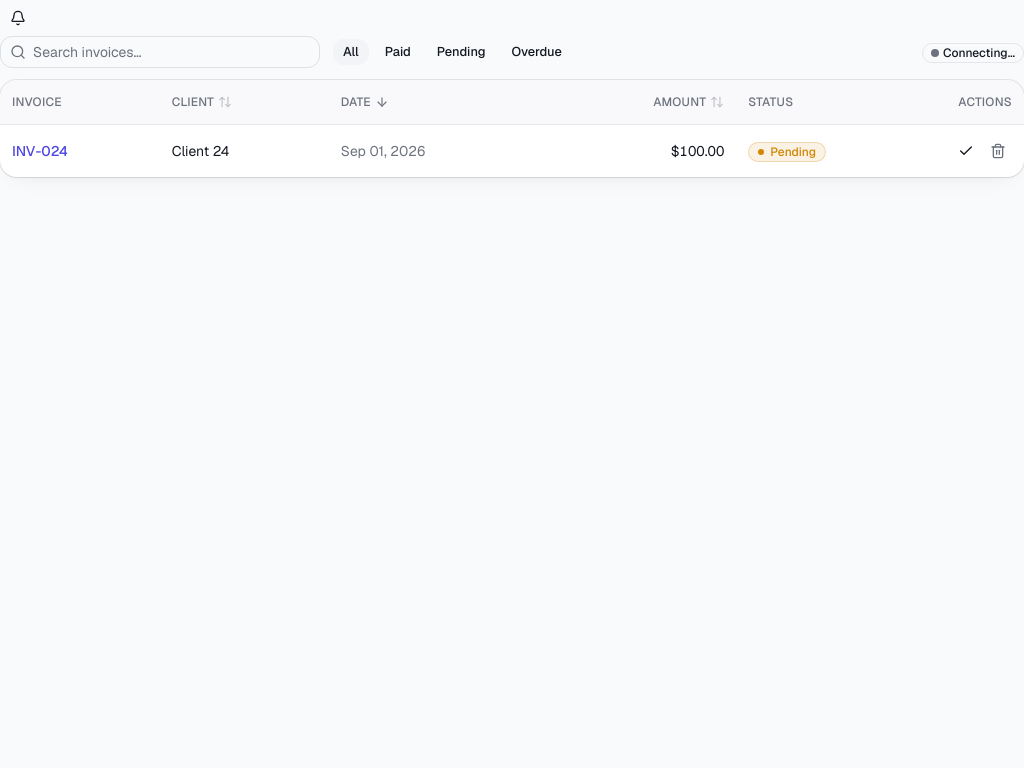
Test: InvoiceTable › tells the user why an invoice could not be marked as paid
Click the button named "Mark as paid" at (966, 150), box [952,136,980,164]
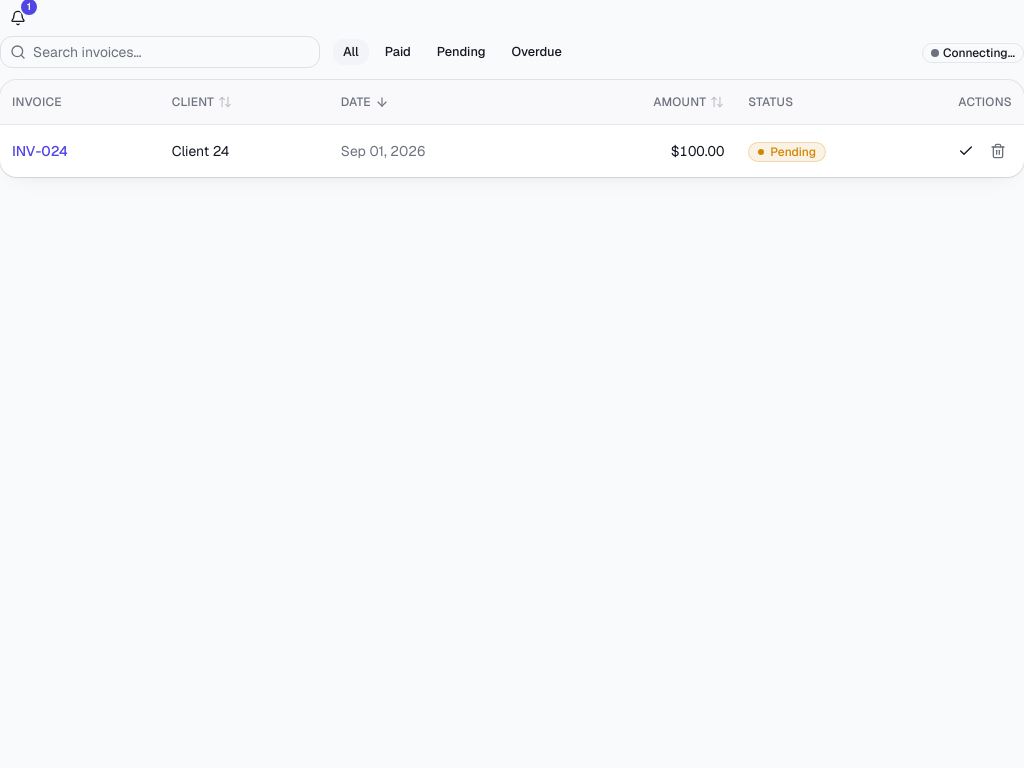
Click the button named "Notifications (1 unread)" at (18, 18), box [0,0,36,36]
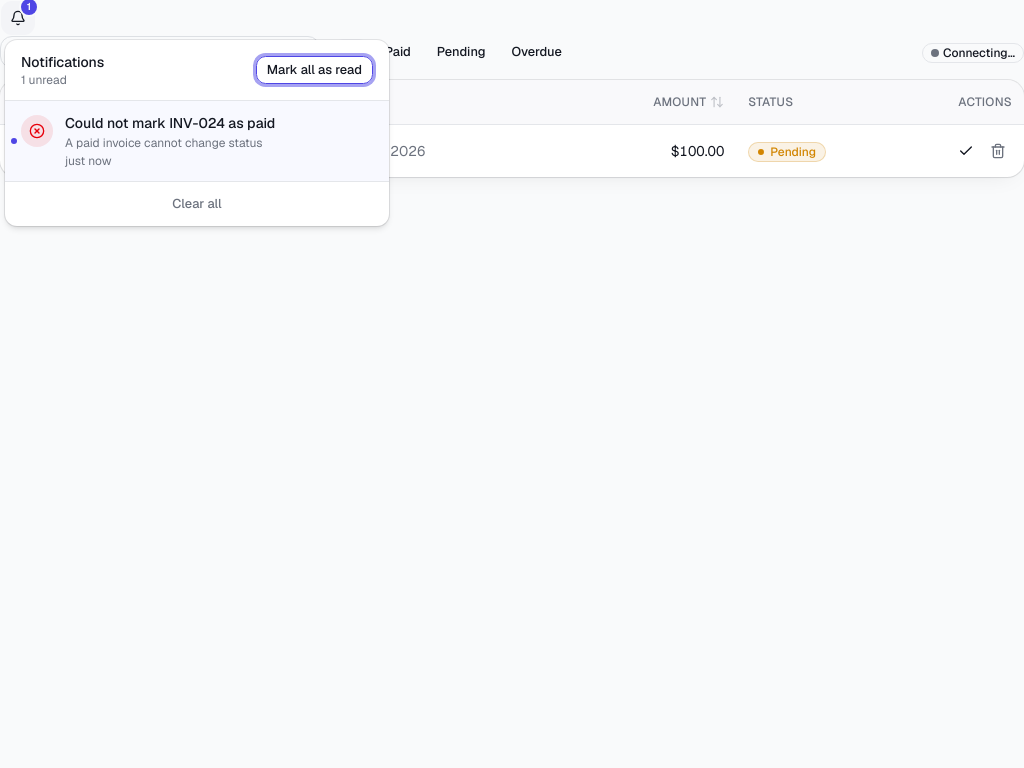
Expected: the text "A paid invoice cannot change status" is shown, [65,135,263,151]
